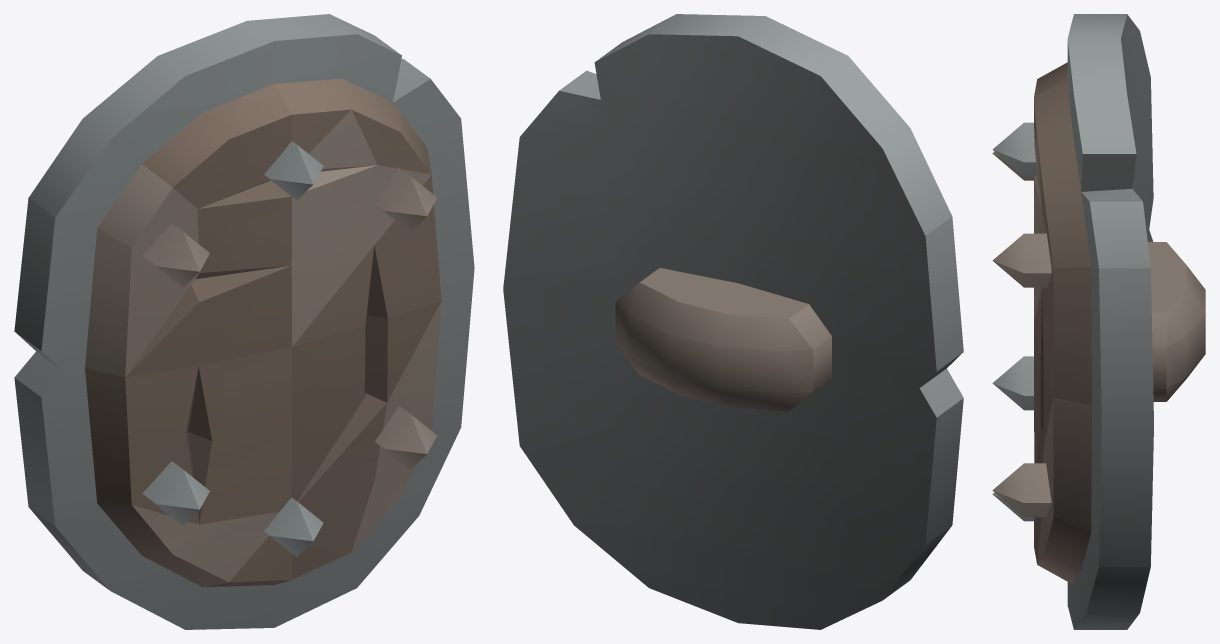
File: skeleton_shield_large_b.glb
The picture shows the model from 3 angles, left to right: view 1: azimuth 30°, elevation 25°; view 2: azimuth 150°, elevation 25°; view 3: azimuth 270°, elevation 25°; orthographic projection. The views are drawn at different scales.
Parts seen in each view (by area): view 1: Skeleton_Shield_Large_B; view 2: Skeleton_Shield_Large_B; view 3: Skeleton_Shield_Large_B.
Boxes of the visible parts, x1,y1,x2,y2 form: Skeleton_Shield_Large_B: (14,14,474,629); Skeleton_Shield_Large_B: (503,14,963,629); Skeleton_Shield_Large_B: (992,14,1205,629).
Bounding box in the file's own units: 0.8771 × 1.13 × 0.387.
Materials: 1 (1 with a texture image).
